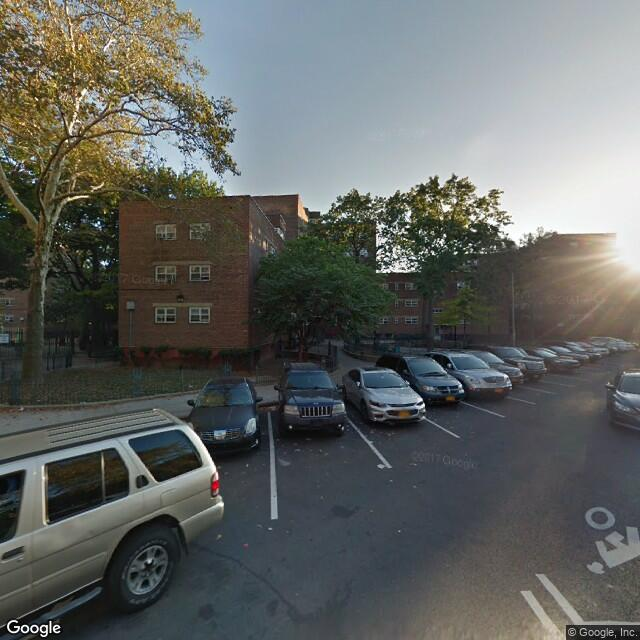litter: (374, 460, 385, 471), (214, 531, 224, 540), (15, 404, 25, 413), (240, 540, 250, 548), (267, 524, 273, 531)
